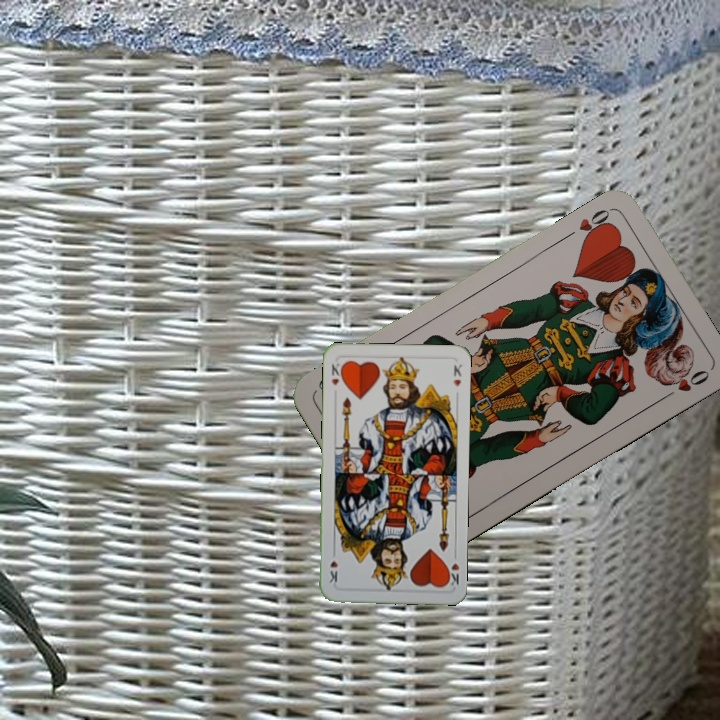HK: (443, 548, 462, 589), (327, 359, 345, 388)
HO: (561, 205, 615, 245)
